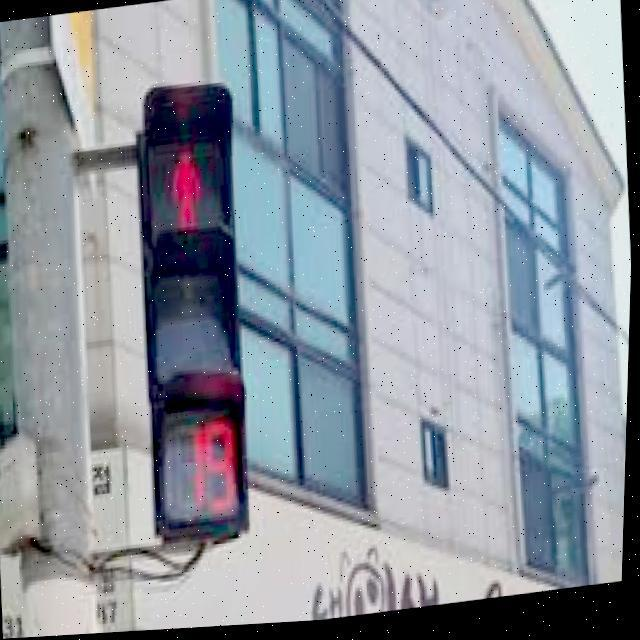red_light: (142, 132, 250, 526)
